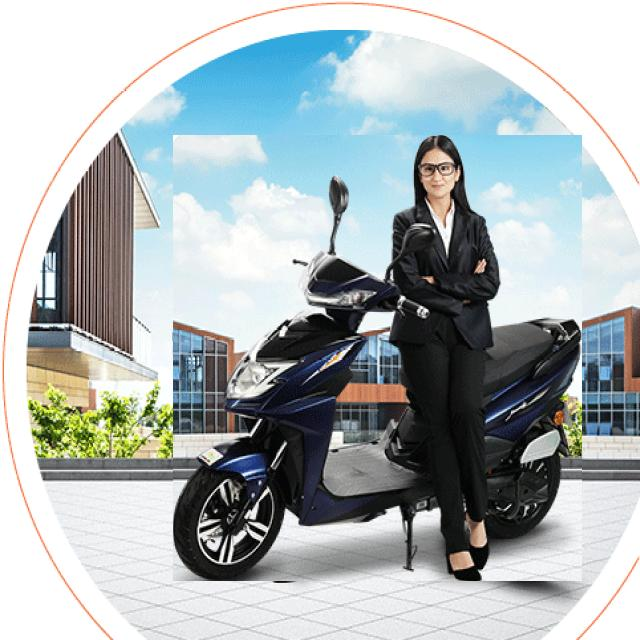motorcycle: (173, 136, 581, 581)
